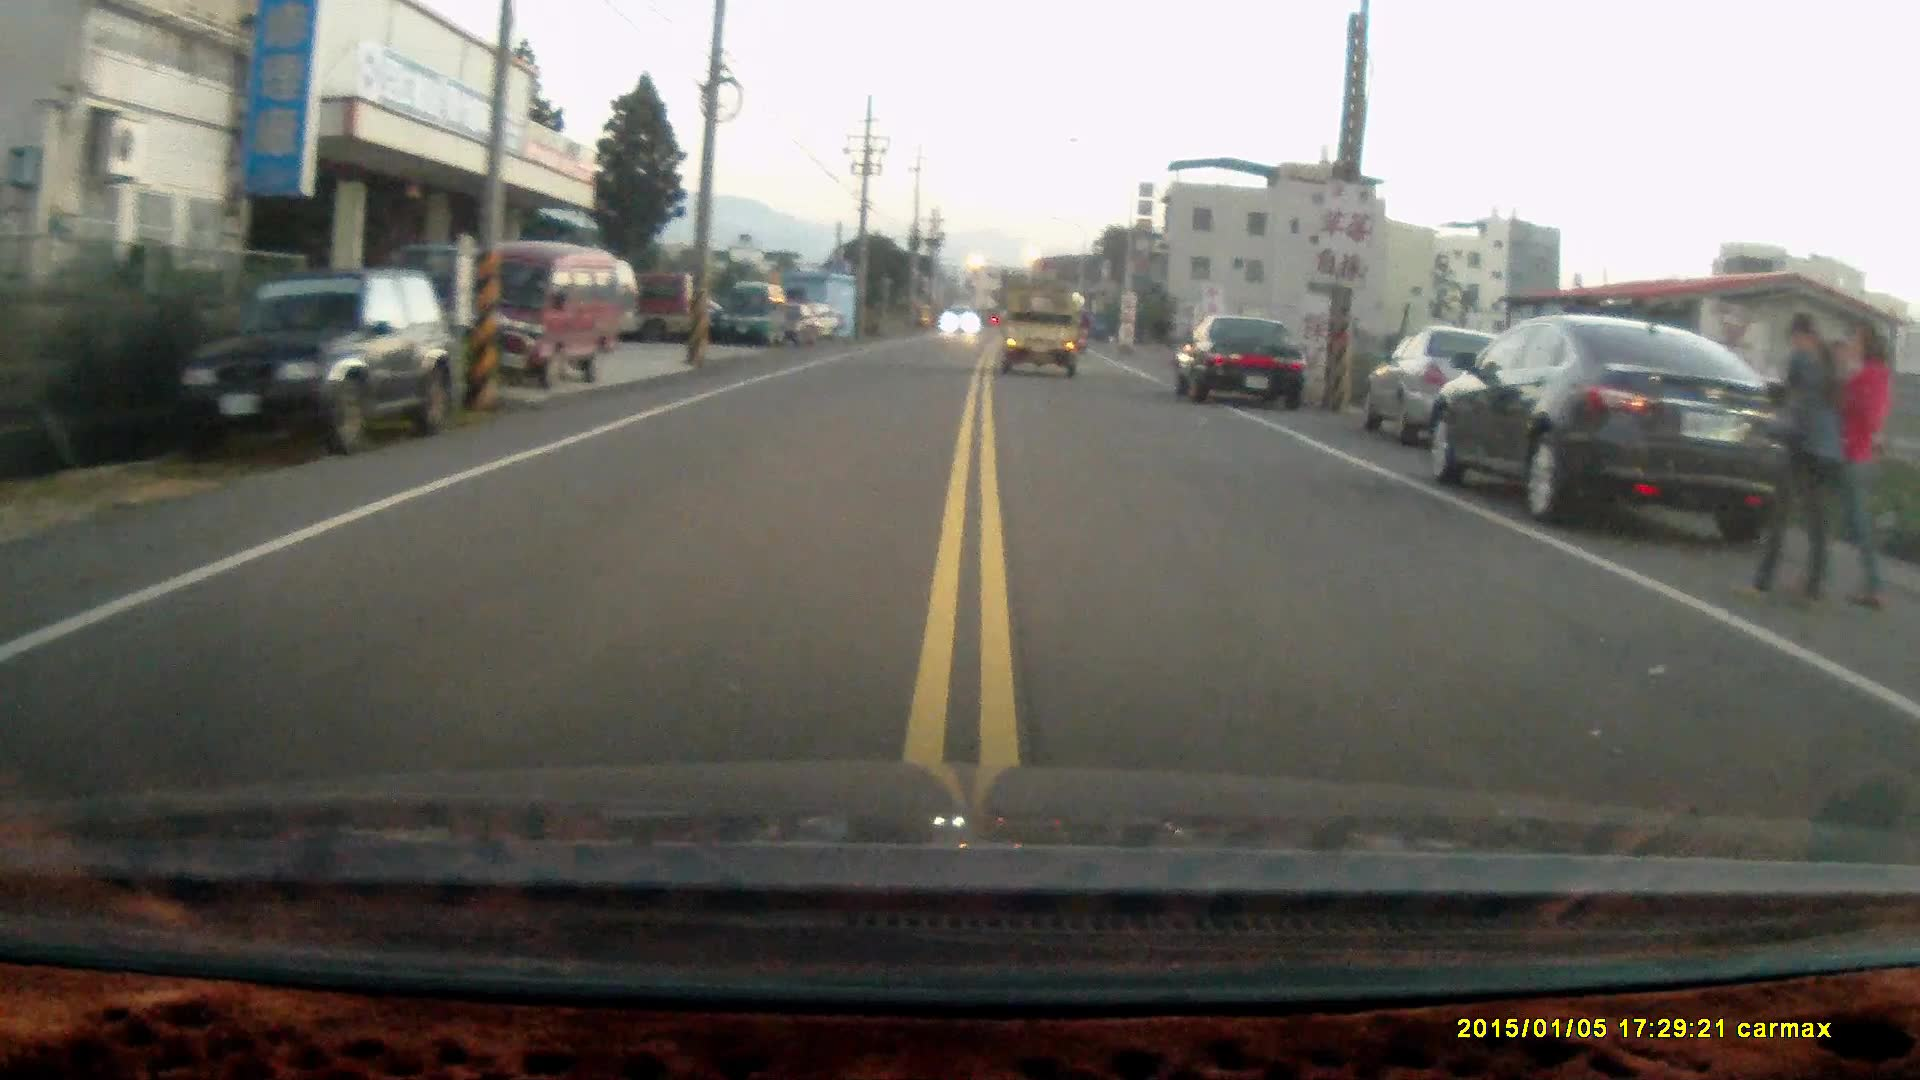pedestrian: (1740, 312, 1840, 609), (1812, 316, 1891, 612)
vehicle: (1427, 318, 1823, 547), (185, 267, 460, 461), (443, 245, 634, 385), (1358, 329, 1517, 454), (1169, 309, 1309, 411), (1003, 292, 1086, 379), (718, 283, 791, 349)
